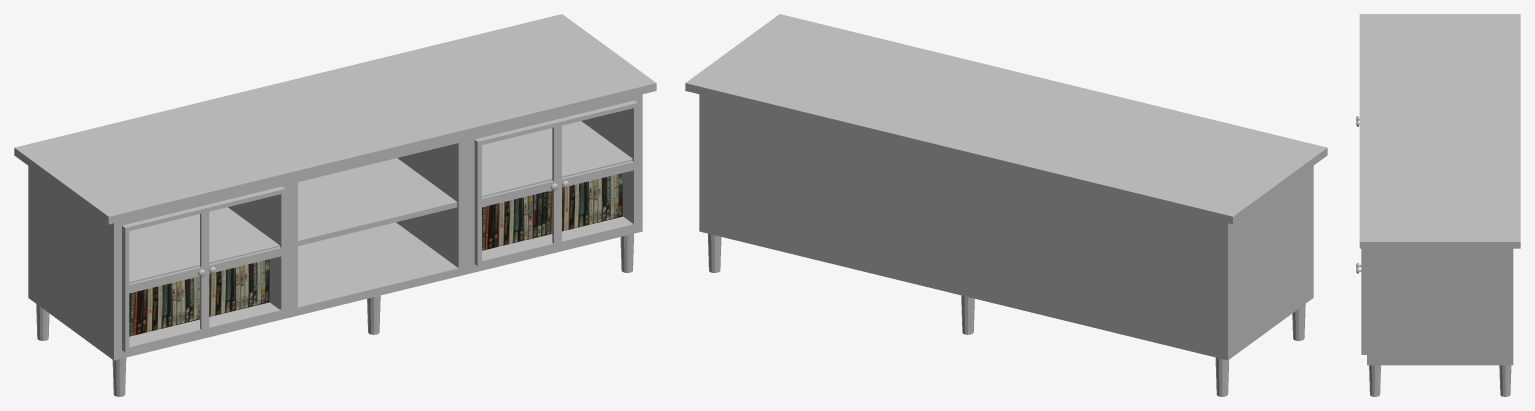
File: T.V. cabinet.fbx
3 renders of one model, left to right at view 1: azimuth 30°, elevation 25°; view 2: azimuth 150°, elevation 25°; view 3: azimuth 270°, elevation 25°, orthographic. The views are drawn at different scales.
Visible parts, largest first — view 1: T.V. cabinet; view 2: T.V. cabinet; view 3: T.V. cabinet.
Boxes of the visible parts, x1=… form: T.V. cabinet: x1=14, y1=14, x2=656, y2=396; T.V. cabinet: x1=685, y1=14, x2=1327, y2=396; T.V. cabinet: x1=1356, y1=14, x2=1520, y2=396.
Bounding box in the file's own units: 182 × 60.13 × 55.51.
